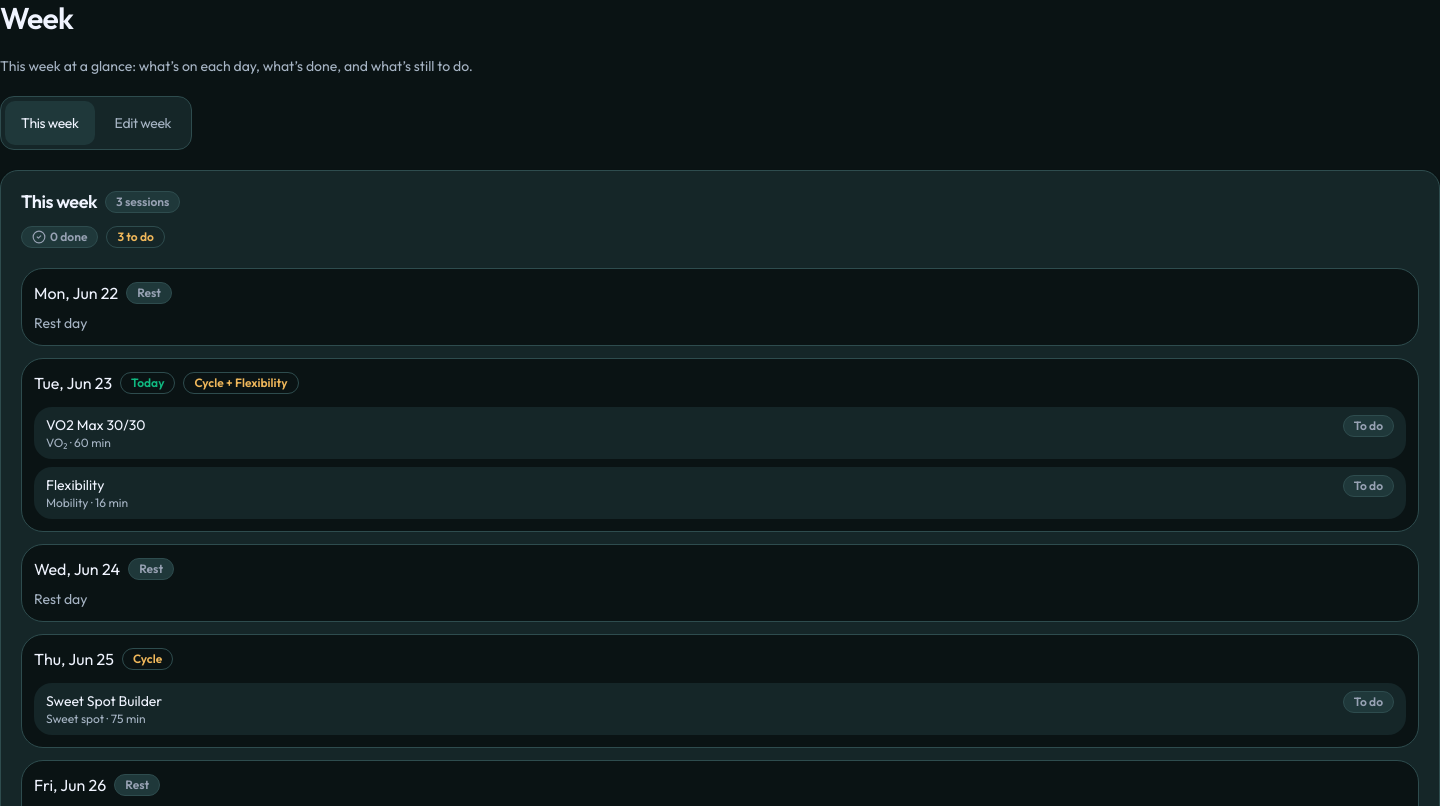
Test: WeekAheadPage › opens the detail sheet from the editor row without moving the workout (Batch 135)
Expected: the text "VO2 Max 30/30" is shown, [46,414,146,434]
Click the tab "Edit week" at (143, 123), box [99,101,187,145]
(page scrolled)
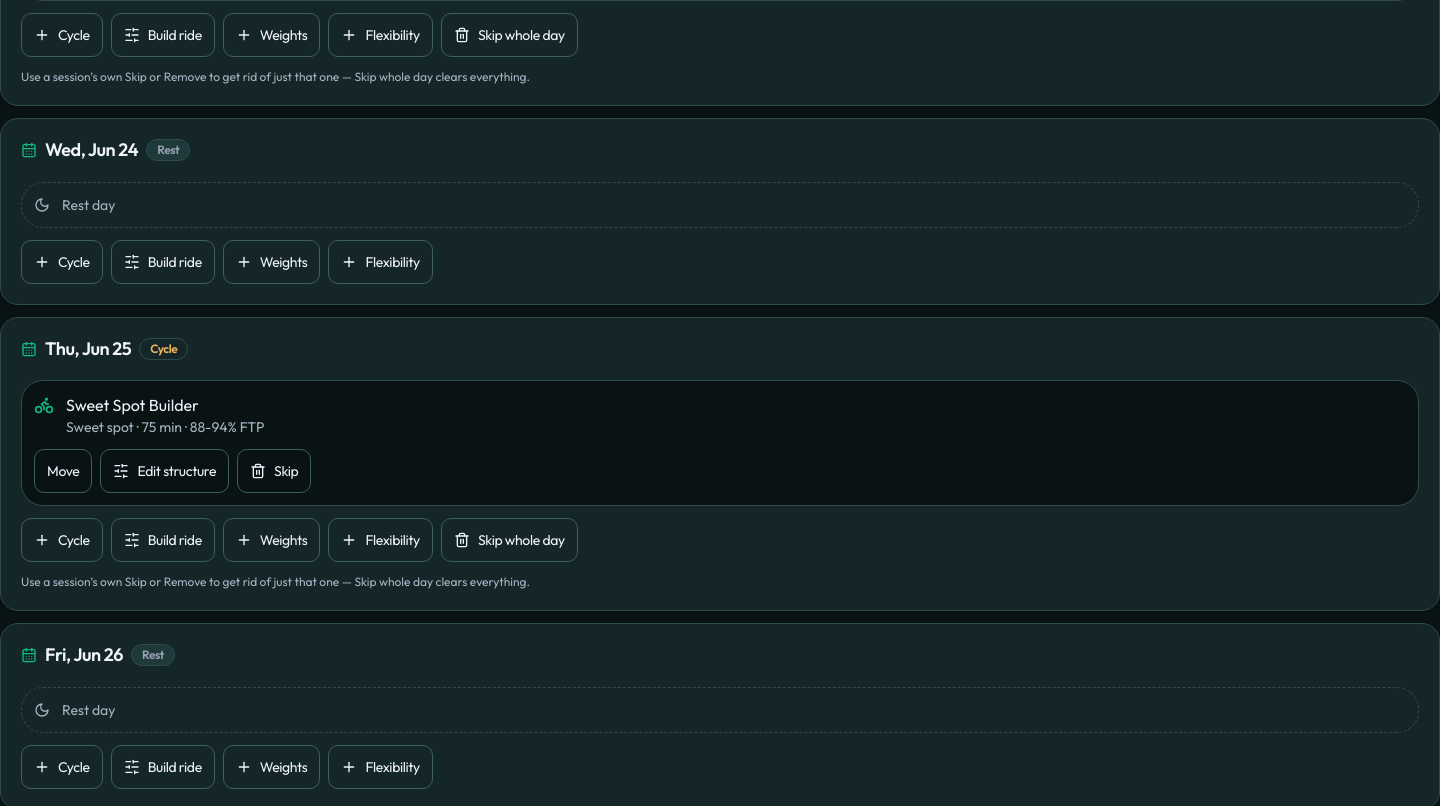
Click the button with aria-label "View Sweet Spot Builder details" at (132, 405), box [34,393,1406,437]
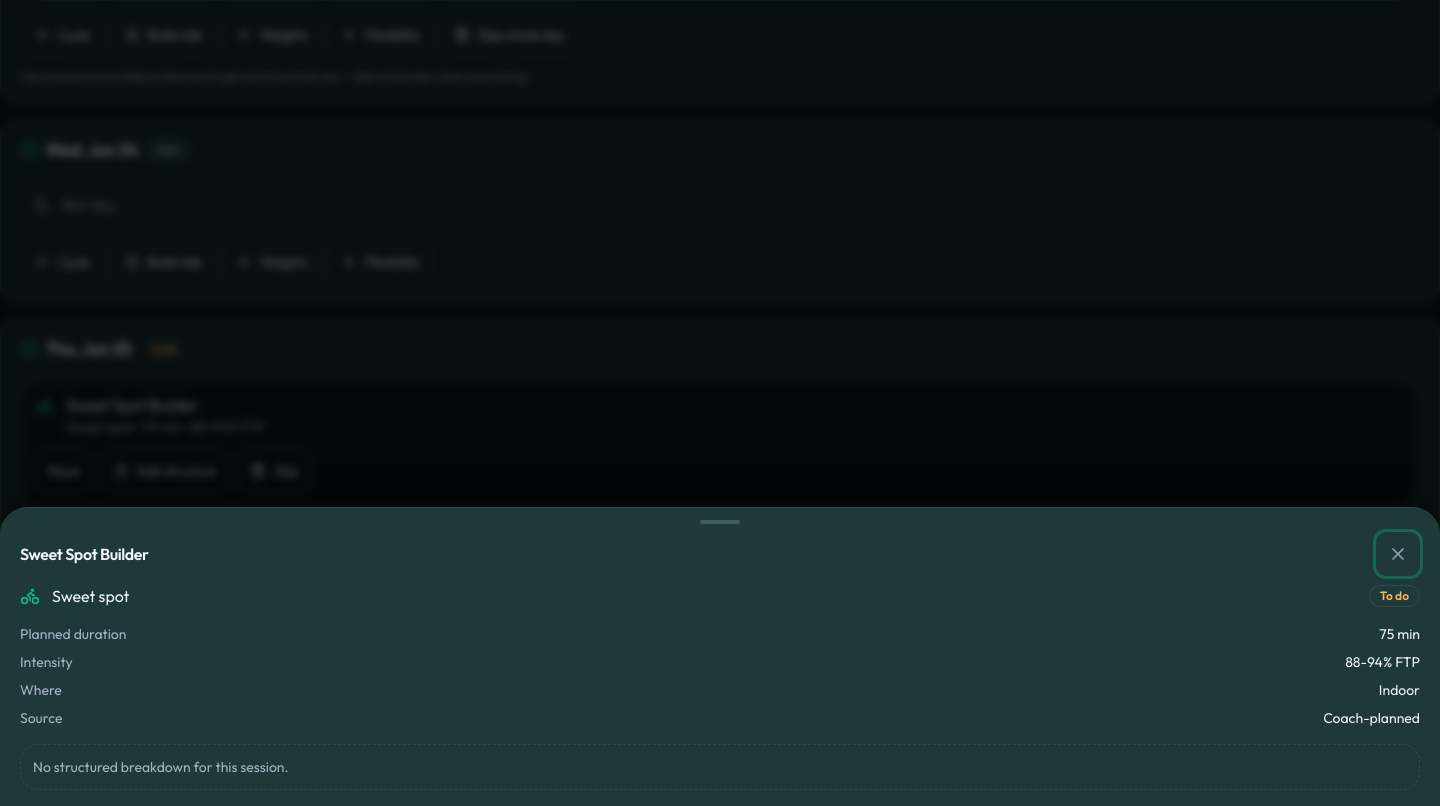
Expected: the text "Coach-planned" is shown, [1323,708,1420,728]
Expected: the text "88-94% FTP" is shown, [1345,652,1420,672]
Expected: the text "No structured breakdown for this session." is shown, [20,744,1420,790]
